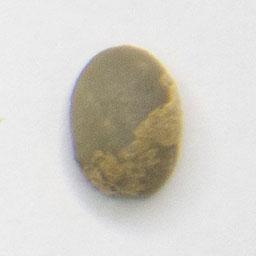premium: (66, 42, 186, 204)
